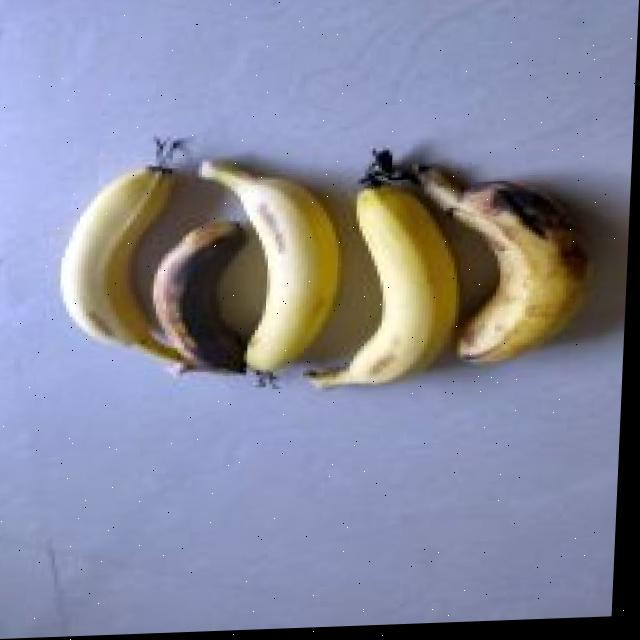Wet: (403, 160, 597, 378), (152, 221, 292, 397)
